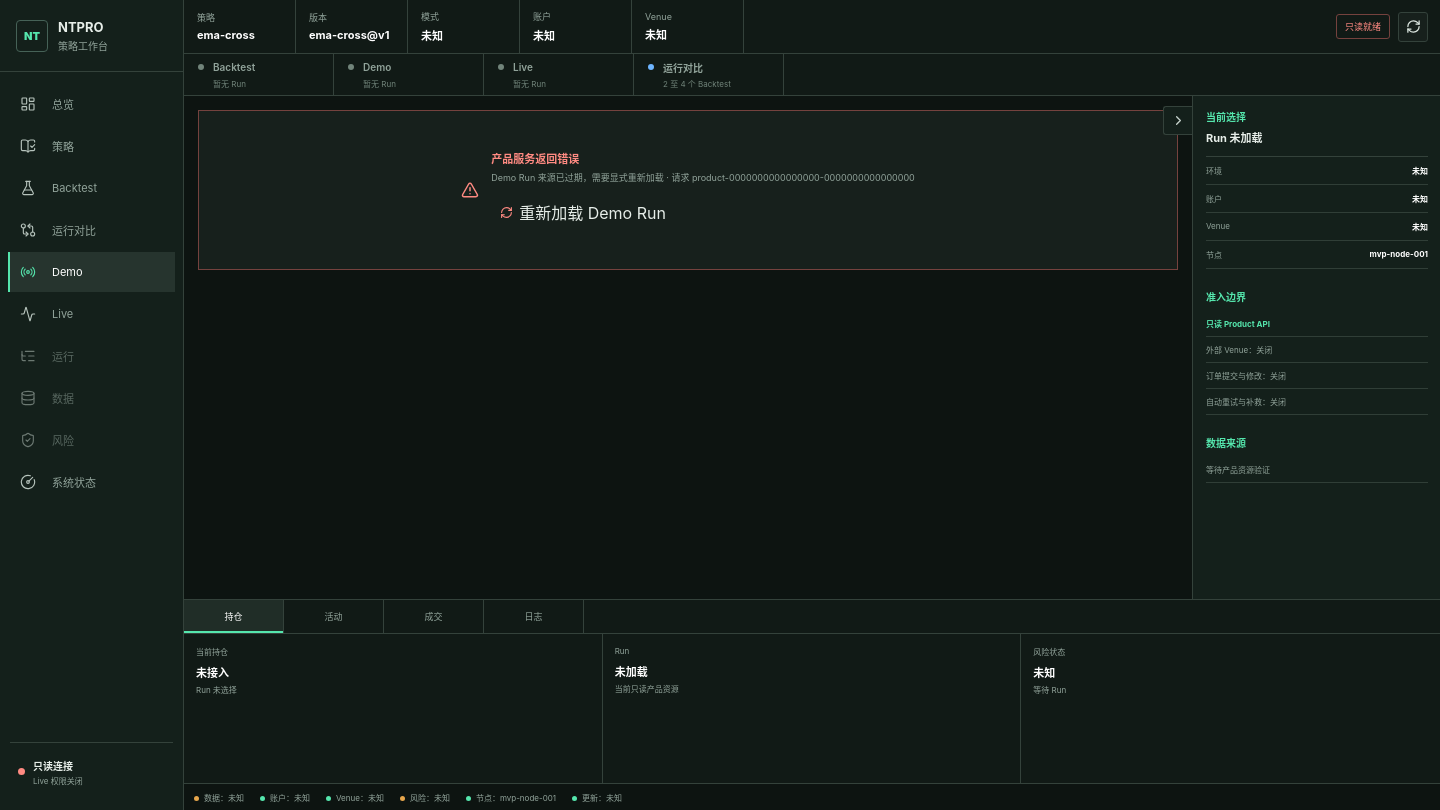
Test case: strategy workbench product slice › fails closed and explicitly recovers when the Demo Run list is stale
Expected: the text "产品服务返回错误" is shown, [491,152,579,166]
Expected: the button "创建 Demo Run" is not shown
Click the button "重新加载 Demo Run": (583, 212) [491,194,675,230]
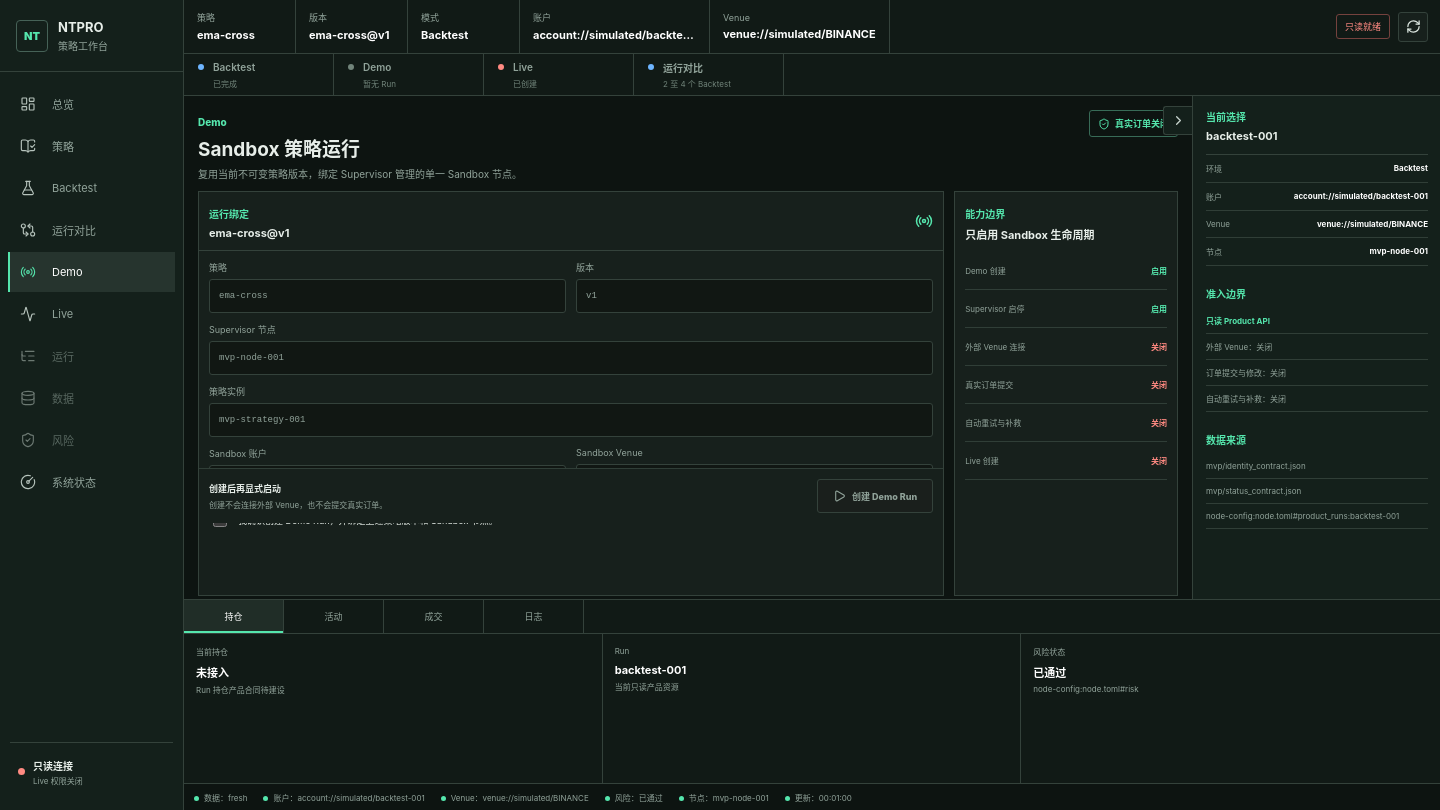
Expected: the heading "Sandbox 策略运行" is shown, [198,138,360,161]
Expected: the button "创建 Demo Run" is shown, [817,479,933,513]
